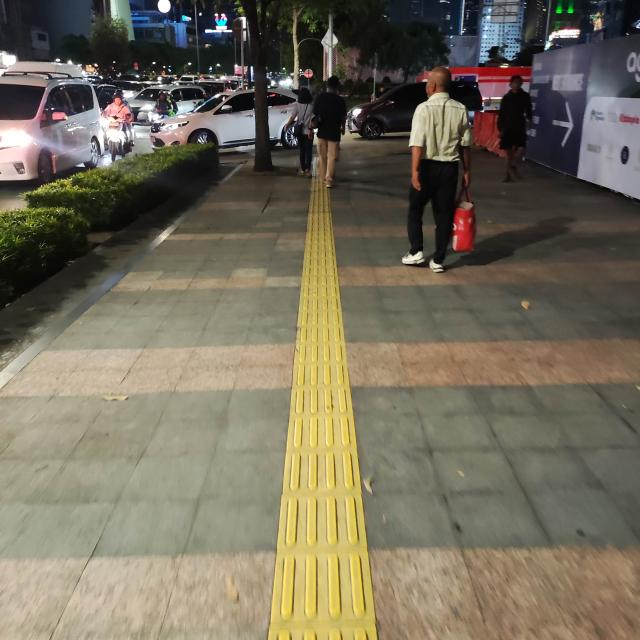lurus: (276, 199, 372, 640)
